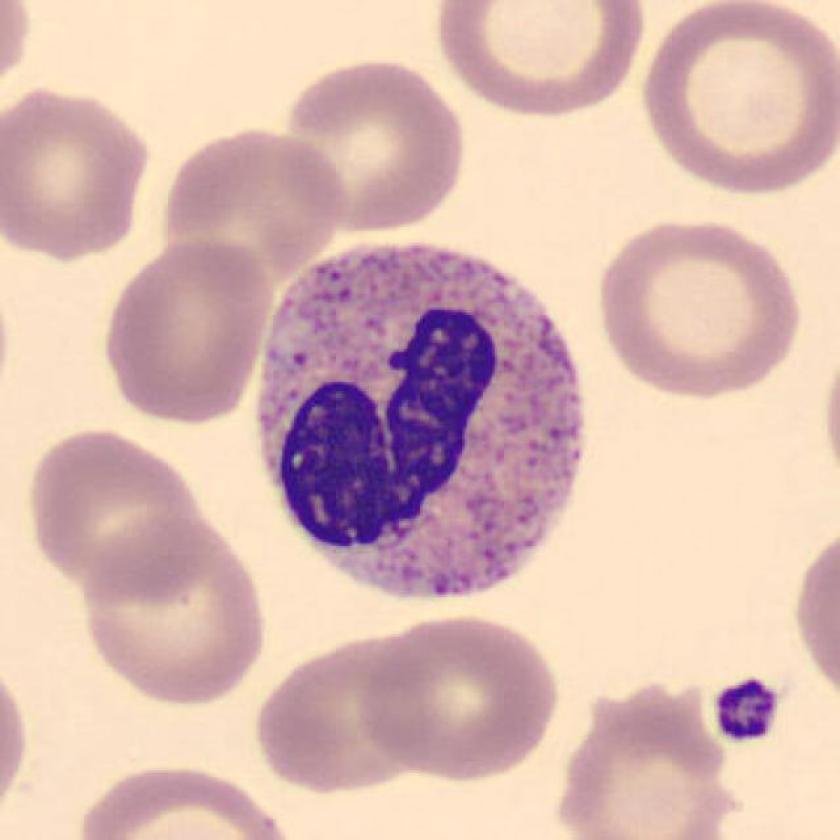neutrophil: (263, 243, 587, 595)
